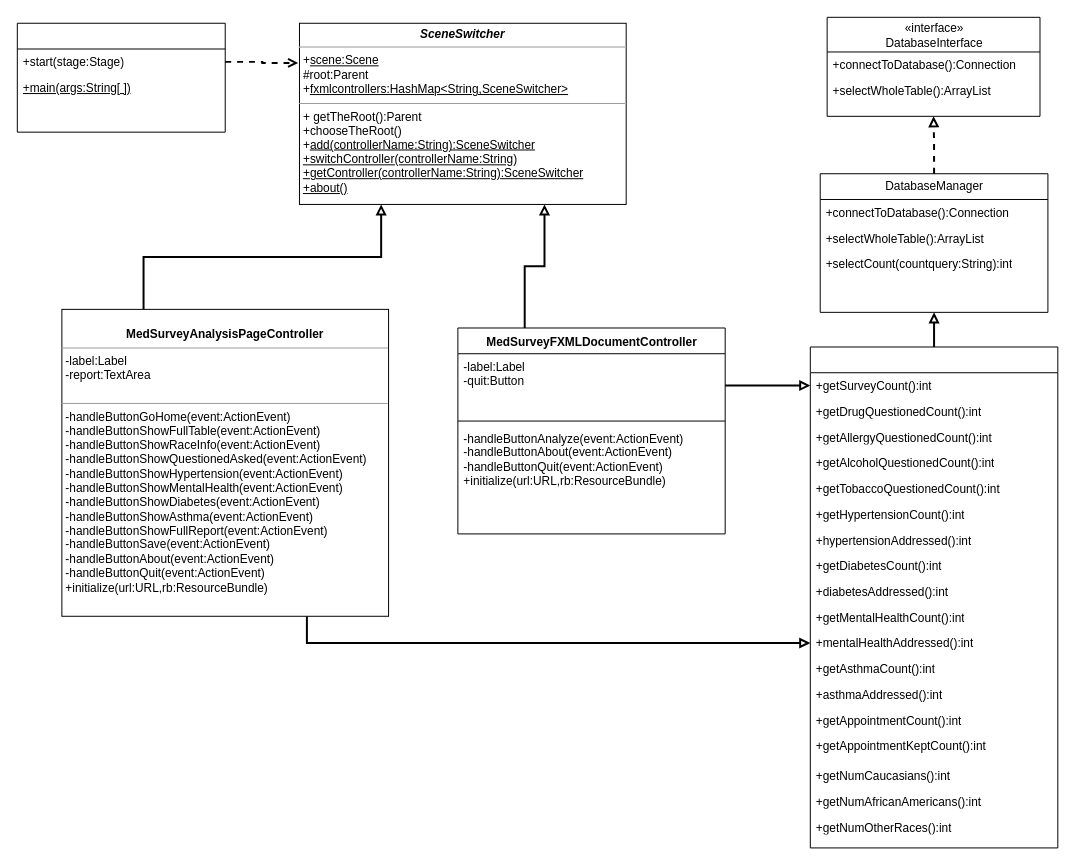
This 1075x865 diagram has some shape labels left out. The box of each missing label's shape, as (x1, y1, x2, y2) in pixels:
Ams938MedSurveyAnalyzer: (16, 22, 225, 132)
DatabaseSurveryQuery: (809, 346, 1058, 848)
